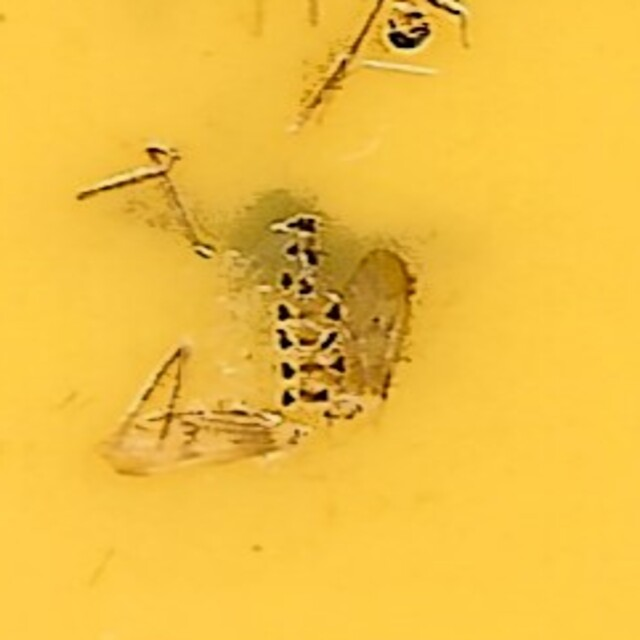Nematocera: (266, 208, 374, 432)
